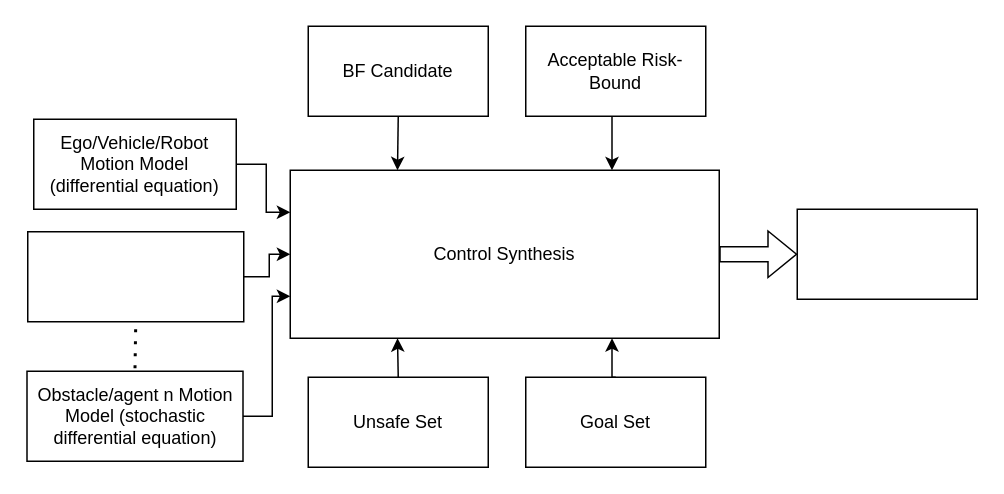
This 1004x494 diagram has some shape labels left out. Here are the shapes that lost their labels. From the top down, the box of each, then its label:
(796, 208, 977, 299): Controller
(26, 230, 244, 322): Obstacle/agent 1 Motion Model (stochastic differential equation)
